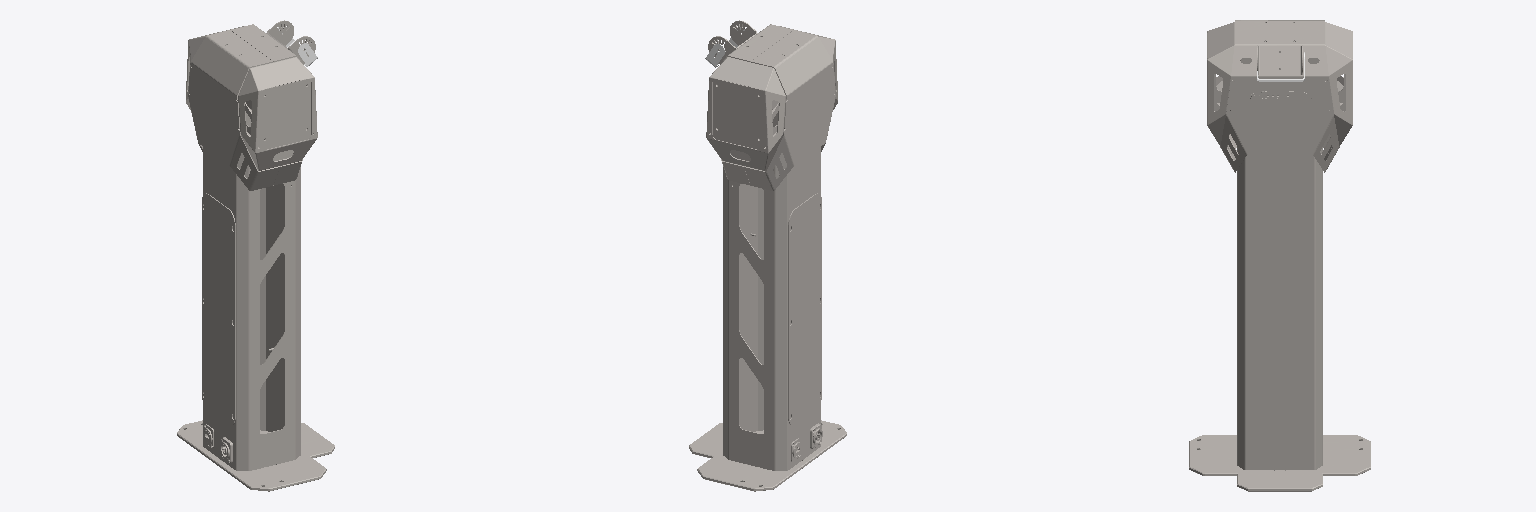
robot.urdf — open_nero_description:
<?xml version="1.0" encoding="utf-8"?>
<!-- This URDF was automatically created by SolidWorks to URDF Exporter! Originally created by Stephen Brawner (brawner@gmail.com) 
     Commit Version: 1.6.0-4-g7f85cfe  Build Version: 1.6.7995.38578
     For more information, please see http://wiki.ros.org/sw_urdf_exporter -->
<robot
  name="open_nero_description">
  <link
    name="base_link">
    <inertial>
      <origin
        xyz="-0.0592395620981769 -0.068642440505388 0.0562764736144042"
        rpy="0 0 0" />
      <mass
        value="4.46524857458863" />
      <inertia
        ixx="0.0608289280191989"
        ixy="-2.54649959130438E-06"
        ixz="1.11851948046933E-07"
        iyy="0.0218722514454004"
        iyz="-0.000689477252402357"
        izz="0.0680524540174318" />
    </inertial>
    <visual>
      <origin
        xyz="0 0 0"
        rpy="0 0 0" />
      <geometry>
        <mesh
          filename="package://open_nero_description/meshes/base_link_v2.dae" />
      </geometry>
      <material
        name="">
        <color
          rgba="0.776470588235294 0.756862745098039 0.737254901960784 1" />
      </material>
    </visual>
    <collision>
      <origin
        xyz="0 0 0"
        rpy="0 0 0" />
      <geometry>
        <mesh
          filename="package://open_nero_description/meshes/base_link_v2.dae" />
      </geometry>
    </collision>
  </link>
  <link
    name="top_camera_stand_Link">
    <inertial>
      <origin
        xyz="0.0166419912756578 6.93889390390723E-18 -0.0192874146389437"
        rpy="0 0 0" />
      <mass
        value="0.00531091408330161" />
      <inertia
        ixx="4.65820593908766E-06"
        ixy="9.48522319311586E-22"
        ixz="-4.18608407788093E-08"
        iyy="9.5244387196321E-07"
        iyz="1.81889414850786E-21"
        izz="4.06661561438356E-06" />
    </inertial>
    <visual>
      <origin
        xyz="0 0 0"
        rpy="0 0 0" />
      <geometry>
        <mesh
          filename="package://open_nero_description/meshes/camera_stand_link.dae" />
      </geometry>
      <material
        name="">
        <color
          rgba="1 1 1 1" />
      </material>
    </visual>
    <collision>
      <origin
        xyz="0 0 0"
        rpy="0 0 0" />
      <geometry>
        <mesh
          filename="package://open_nero_description/meshes/camera_stand_link.dae" />
      </geometry>
    </collision>
  </link>
  <joint
    name="top_camera_stand_joint"
    type="revolute">
    <origin
      xyz="0.067 0 0.642"
      rpy="0 -0.5445 0" />
    <parent
      link="base_link" />
    <child
      link="top_camera_stand_Link" />
    <axis
      xyz="0 -1 0" />
    <limit lower="0.0" upper="3.14" effort="10.0" velocity="1.0"/>
      
  </joint>
</robot>

--- Facts derived from the render (not from the file) ---
The picture shows the robot from 3 angles, left to right: view 1: azimuth 30°, elevation 25°; view 2: azimuth 150°, elevation 25°; view 3: azimuth 270°, elevation 25°; orthographic projection.
Model open_nero_description with 2 links and 1 joints (1 revolute), rooted at base_link, posed every joint at zero.
Links seen in each view (by area): view 1: base_link; view 2: base_link; view 3: base_link.
Link boxes in pixels (left/top/right/bottom): base_link: left=177, top=20, right=334, bottom=491; base_link: left=689, top=20, right=846, bottom=491; base_link: left=1189, top=20, right=1370, bottom=491.
Bounding box of the posed robot: 0.1782 × 0.2525 × 0.6621 m (x, y, z).
2 mesh visuals loaded from 2 distinct referenced files (2 Collada DAE).
